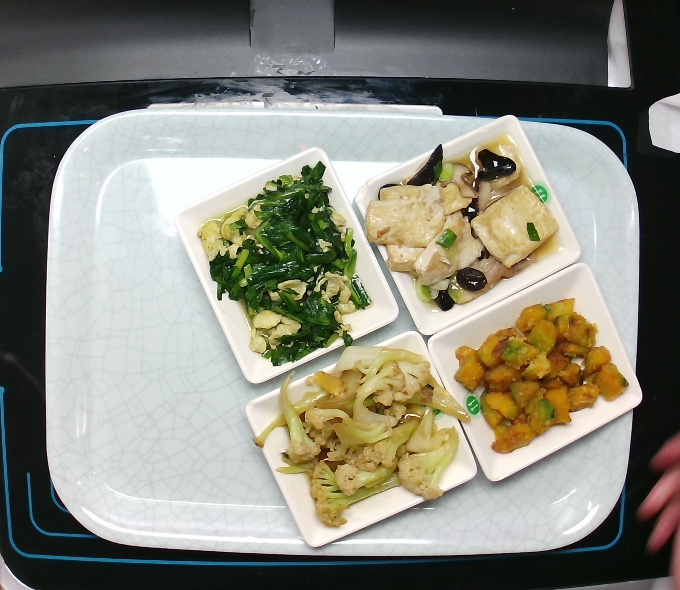wcq-DanHuangNanGua: (443, 300, 633, 455)
wcq-JiaChangDouFu: (364, 126, 561, 309)
wcq-JiuCaiJiDan: (188, 156, 373, 365)
wcq-QiuCai: (255, 342, 469, 531)
